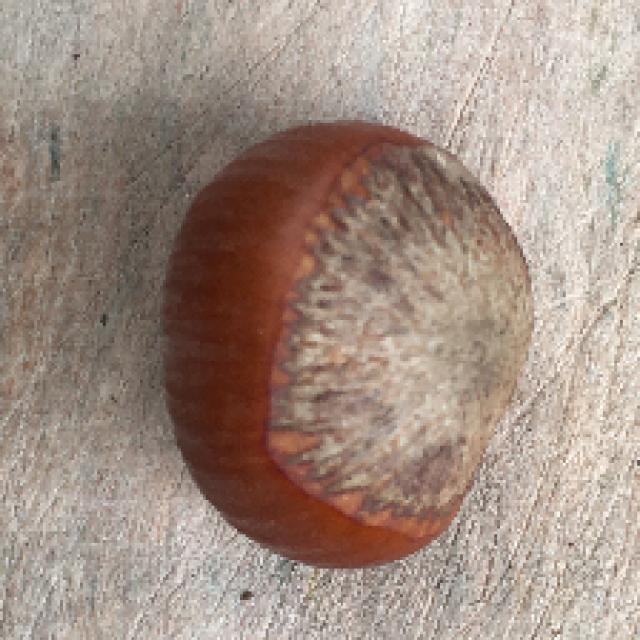qualityHazelnut: (158, 108, 538, 571)
